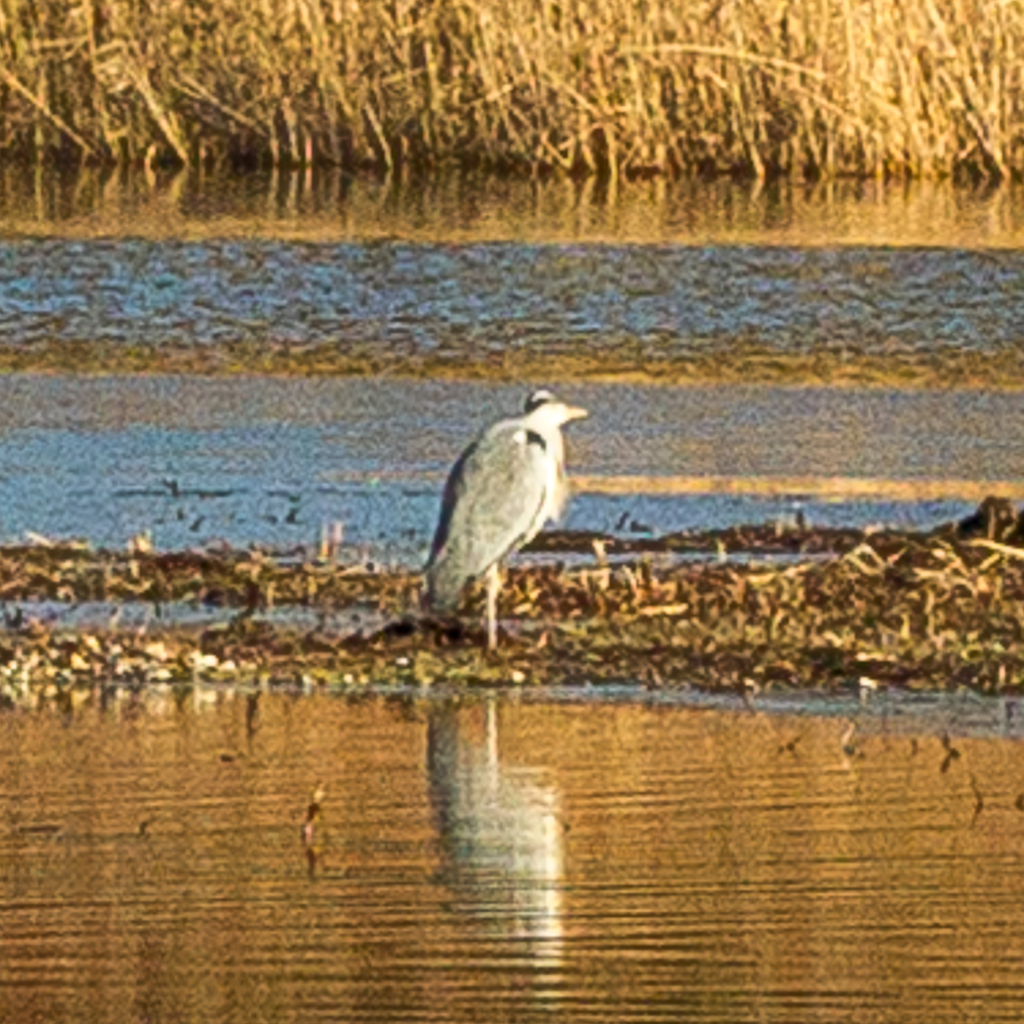heron: (419, 387, 593, 662)
